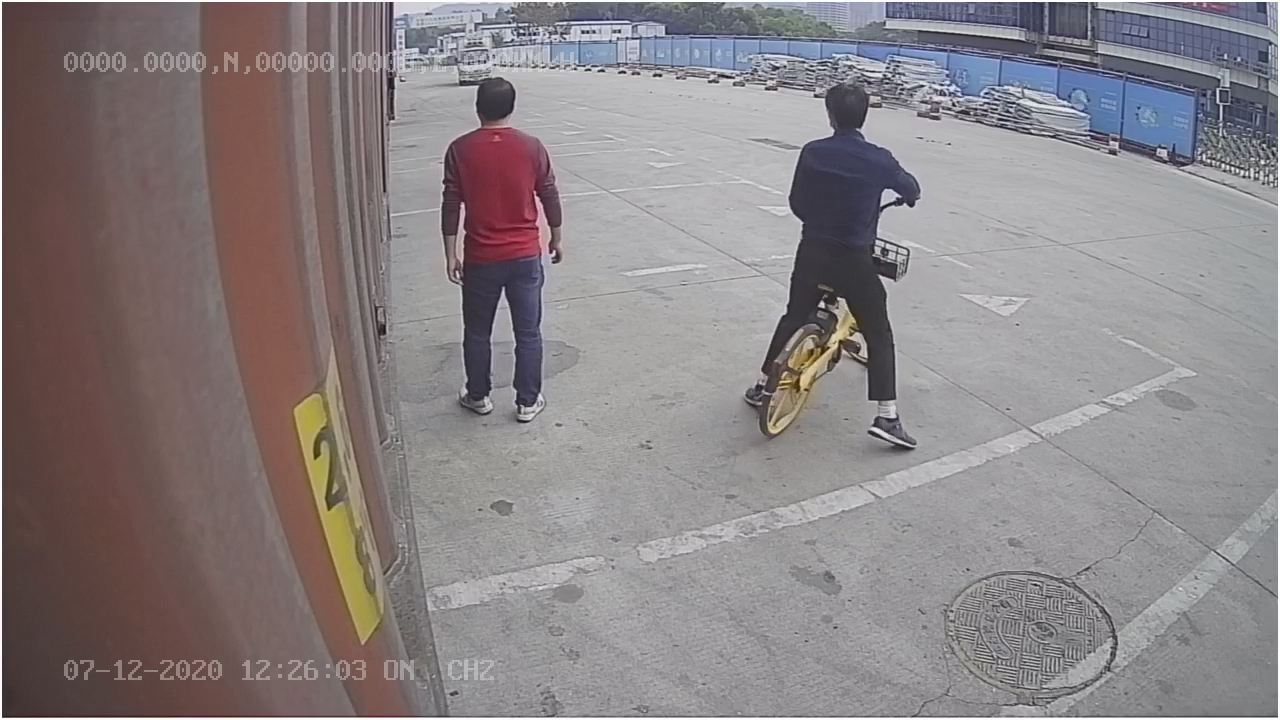person: (435, 75, 566, 432)
